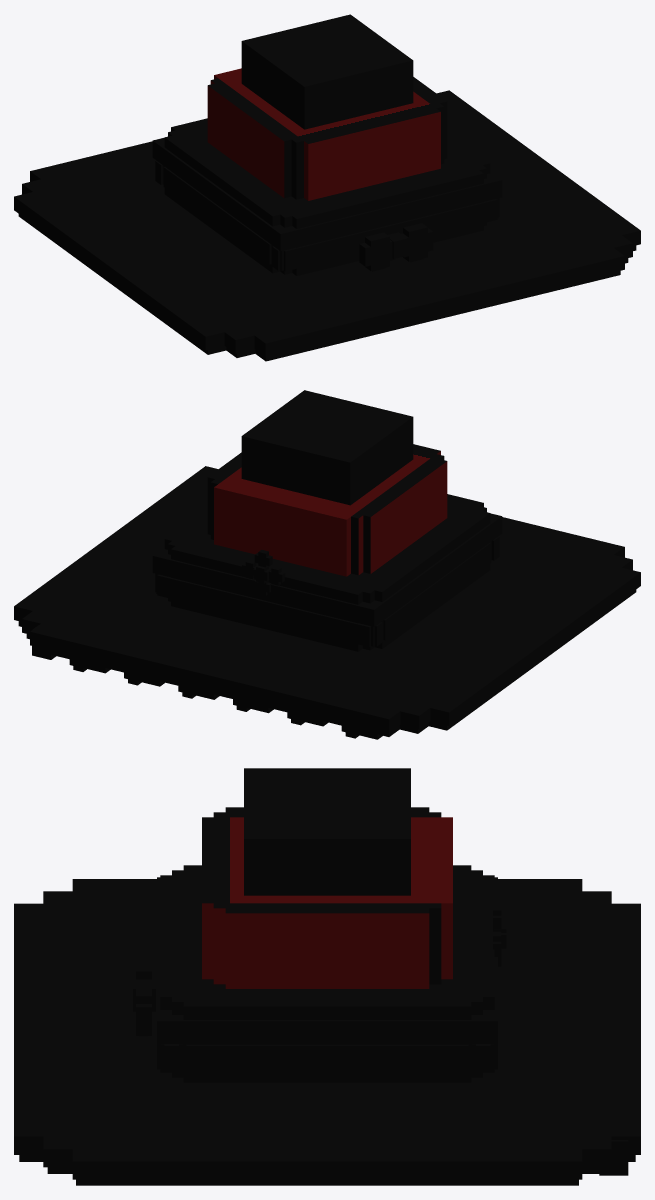
Rendered from hat_fiesta.obj.
3 views of the same model, one above another, from view 1: azimuth 30°, elevation 25°; view 2: azimuth 150°, elevation 25°; view 3: azimuth 270°, elevation 25° (orthographic). The views are drawn at different scales.
Bounding box in the file's own units: 1 × 0.4281 × 0.9375.
